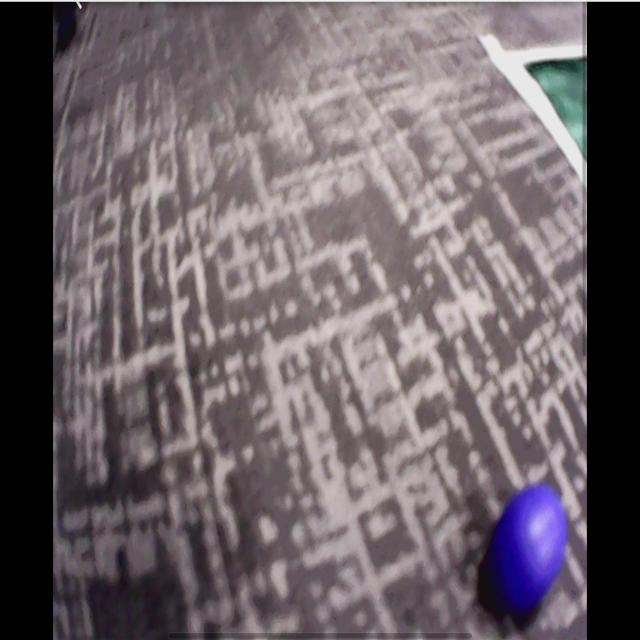ball: (494, 483, 569, 612)
